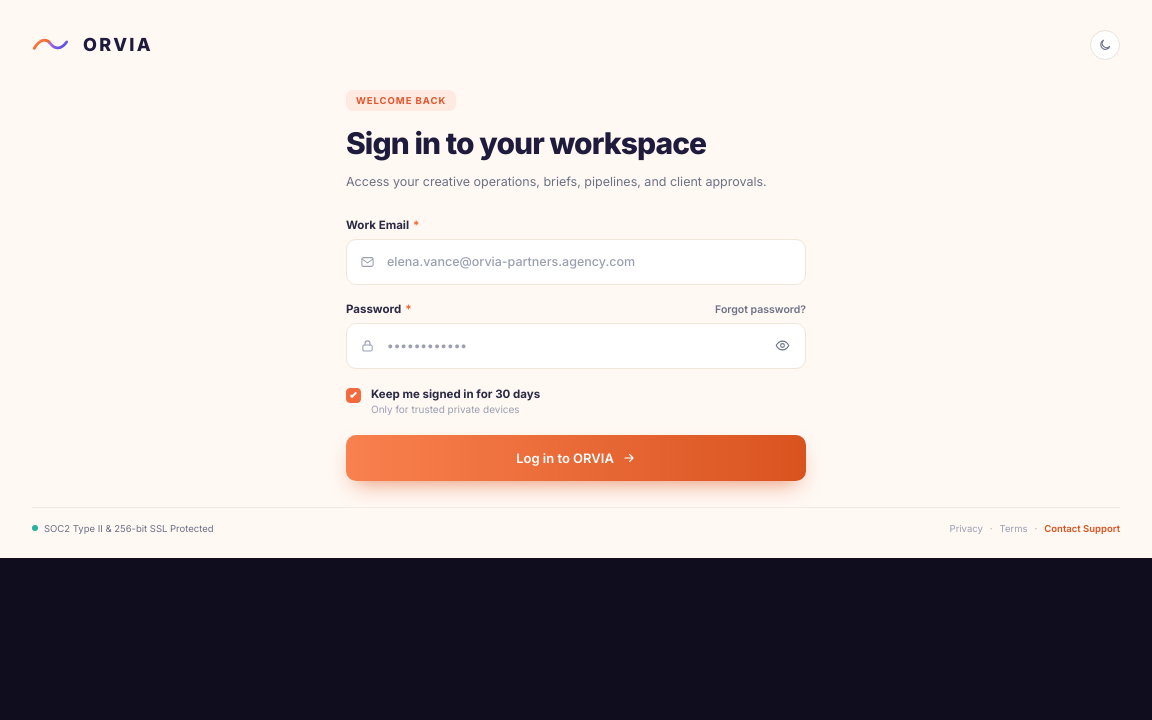
Test case: LoginPage › surfaces an unreachable backend instead of faking a session
The image size is (1152, 720).
Type "elena.vance@orvia-creative.com" into the field labelled "Work Email".
click(576, 262); type("elena.vance@orvia-creative.com")  # box top-left (346, 239), bottom-right (806, 285)
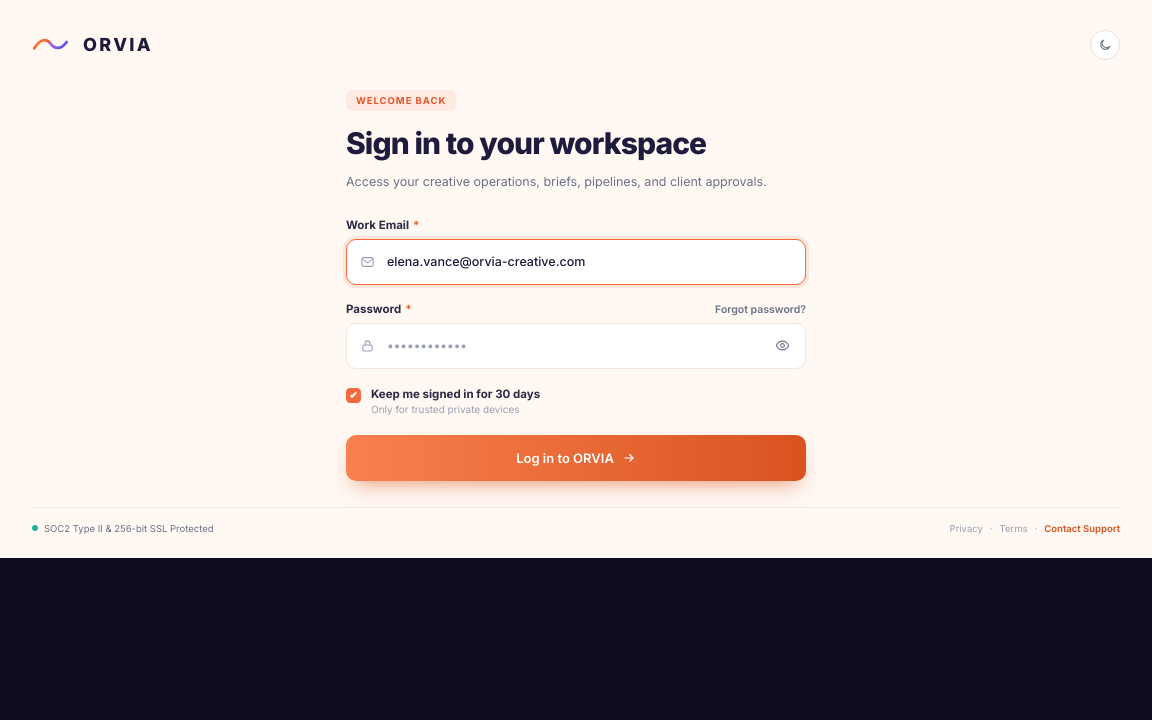
Type "password1234" into the password field labelled "Password".
click(576, 346); type("password1234")  # box top-left (346, 323), bottom-right (806, 369)
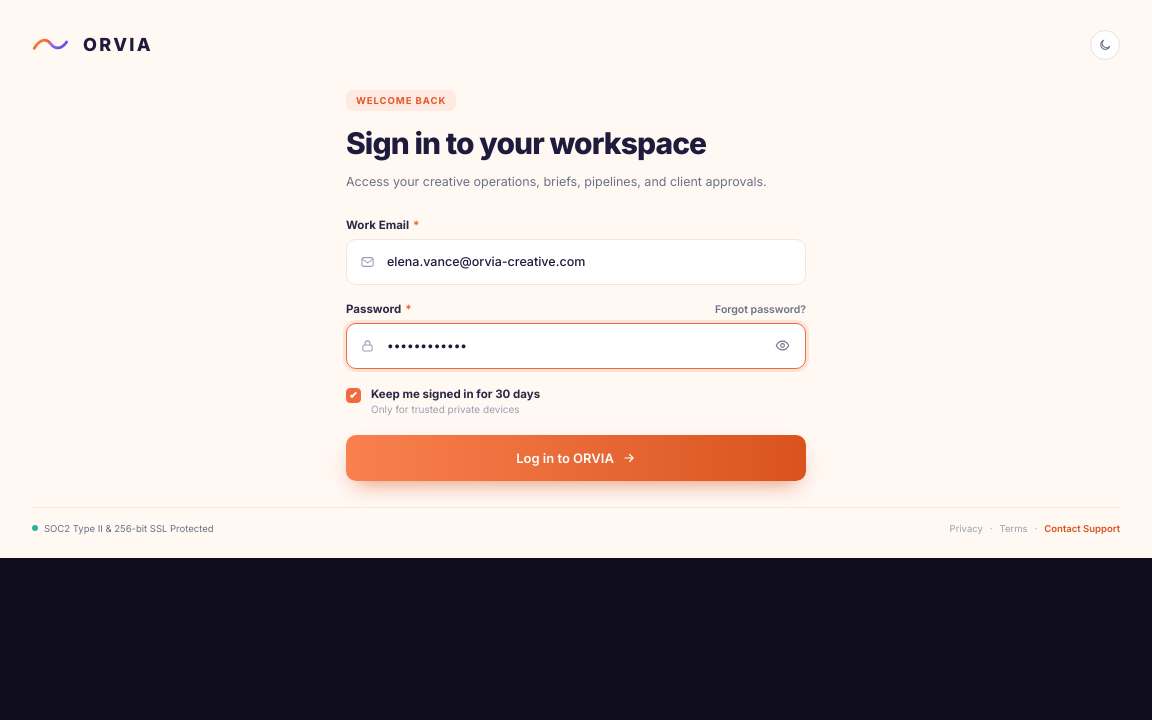
Click the button "Log in to ORVIA".
click(576, 458)  # box top-left (346, 435), bottom-right (806, 481)
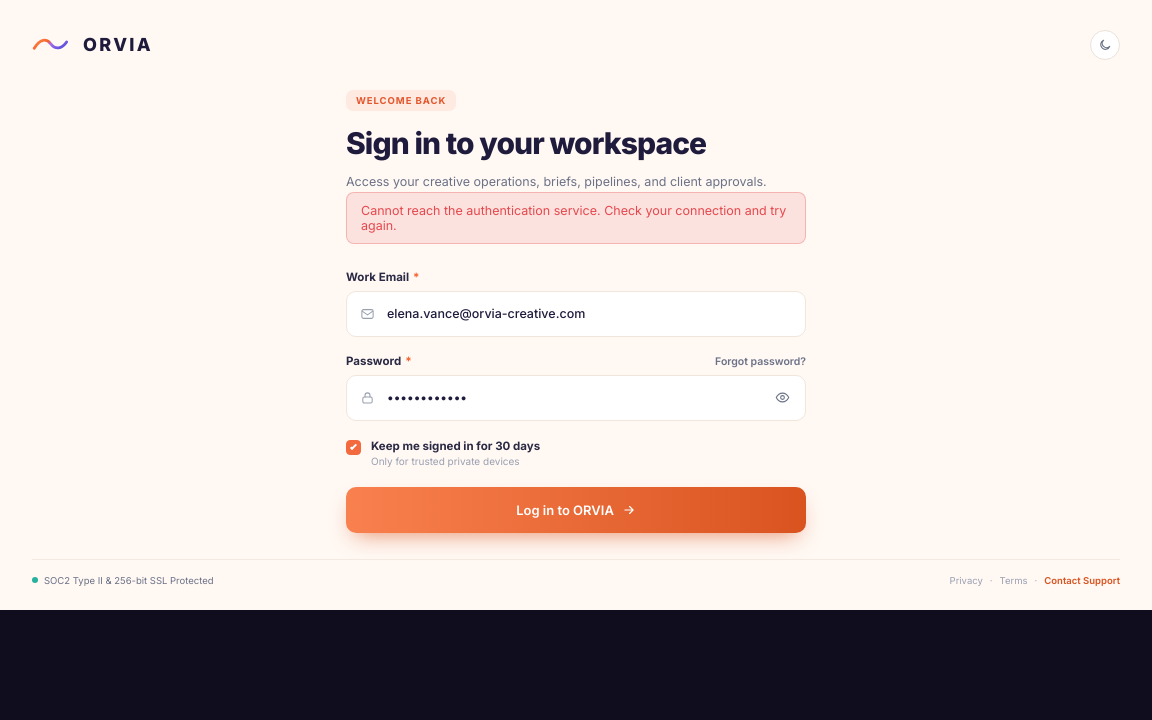
Expected: the message shows "Cannot reach the authentication service", top-left (361, 203), bottom-right (786, 233)
